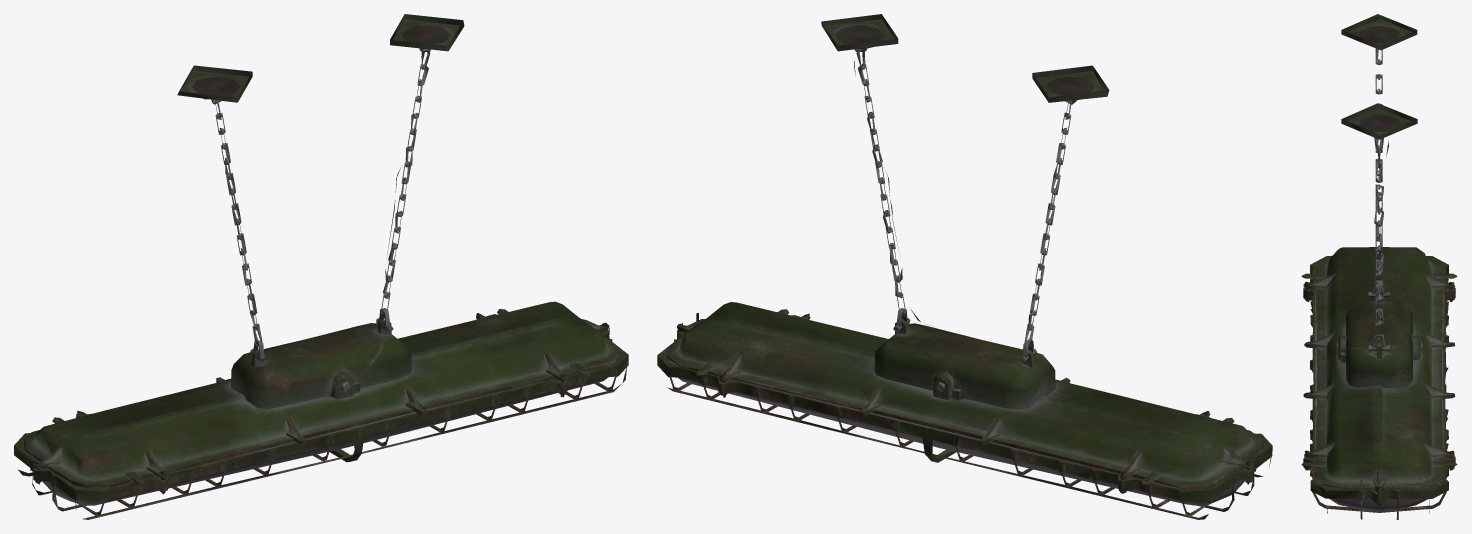
File: caged-hanging-light.glb
The picture shows the model from 3 angles, left to right: view 1: azimuth 30°, elevation 25°; view 2: azimuth 150°, elevation 25°; view 3: azimuth 270°, elevation 25°; orthographic projection. The views are drawn at different scales.
Parts seen in each view (by area): view 1: caged_hanging_light; view 2: caged_hanging_light; view 3: caged_hanging_light.
Part boxes in pixels (bbox=[...]): caged_hanging_light: bbox=[14, 14, 628, 519]; caged_hanging_light: bbox=[657, 14, 1272, 519]; caged_hanging_light: bbox=[1301, 14, 1457, 519].
Bounding box in the file's own units: 1.64 × 1.06 × 0.444.
1 material, 1 textured.
